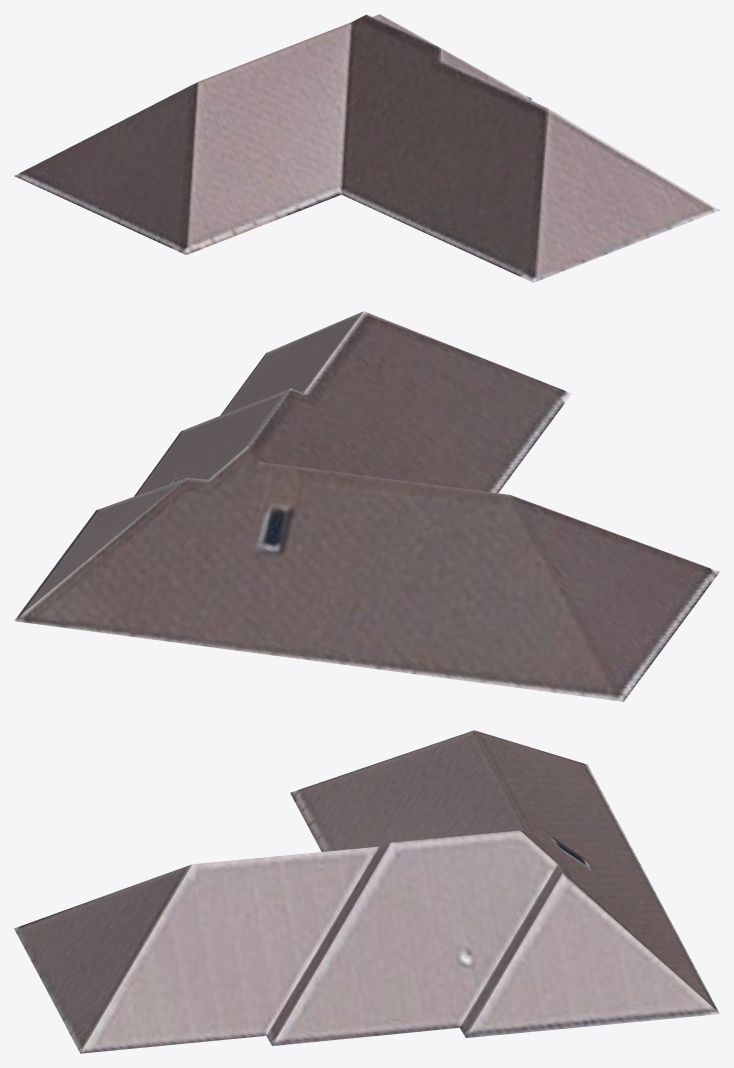
The model's file is BK39_500_013030_0043_roof.obj.
The picture shows the model from 3 angles, top to bottom: view 1: azimuth 30°, elevation 25°; view 2: azimuth 150°, elevation 25°; view 3: azimuth 270°, elevation 25°; orthographic projection. The views are drawn at different scales.
Parts seen in each view (by area): view 1: BK39_500_013030_0043_roof; view 2: BK39_500_013030_0043_roof; view 3: BK39_500_013030_0043_roof.
Part boxes in pixels (x1,y1,x2,y2): BK39_500_013030_0043_roof: (14, 14, 719, 282); BK39_500_013030_0043_roof: (14, 311, 719, 701); BK39_500_013030_0043_roof: (14, 730, 719, 1053).
Size of the model in its own units: 350 by 70 by 361.
Materials: 1 (1 with a texture image).
